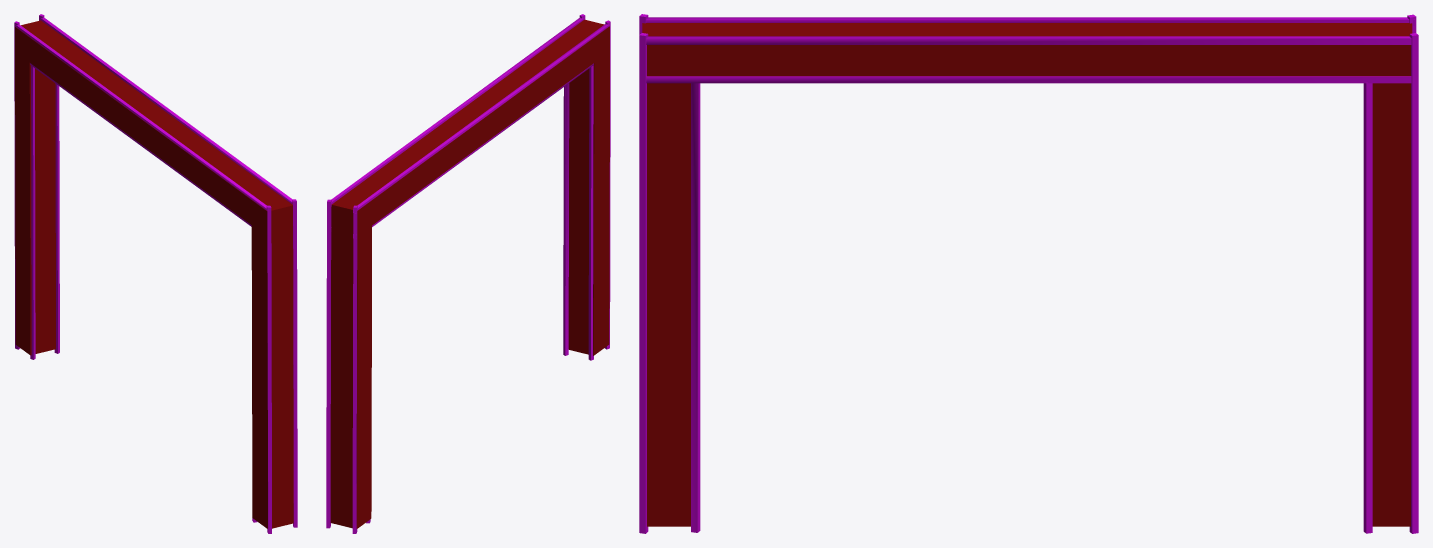
File: andamio.fbx
3 renders of one model, left to right at view 1: azimuth 30°, elevation 25°; view 2: azimuth 150°, elevation 25°; view 3: azimuth 270°, elevation 25°, orthographic. The views are drawn at different scales.
Visible parts, largest first — view 1: Andamio; view 2: Andamio; view 3: Andamio.
Boxes of the visible parts, left/top/right/bottom form: Andamio: left=14, top=14, right=297, bottom=533; Andamio: left=326, top=14, right=610, bottom=533; Andamio: left=639, top=14, right=1418, bottom=533.
Size of the model in its own units: 1.08 by 11.01 by 15.63.
